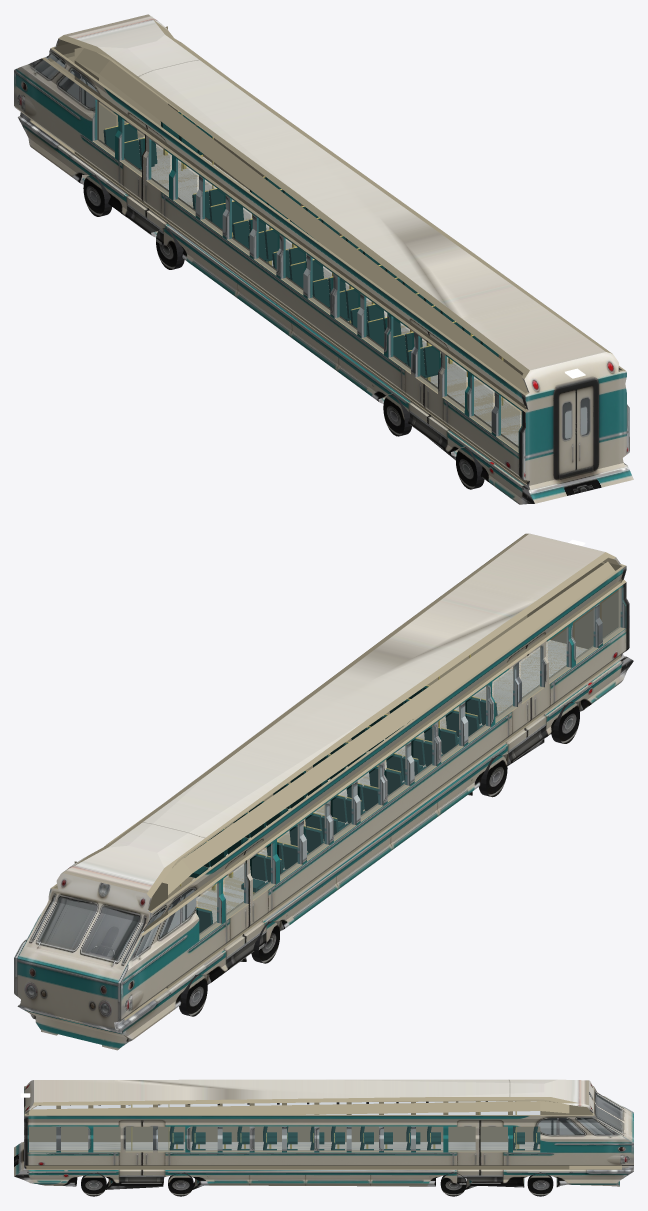
File: passenger_train.glb
3 renders of one model, top to bottom at view 1: azimuth 30°, elevation 25°; view 2: azimuth 150°, elevation 25°; view 3: azimuth 270°, elevation 25°, orthographic. The views are drawn at different scales.
Visible parts, largest first — view 1: passenger_train, passenger_train_interior, wheel_M1L, wheel_M2L, wheel_FL, wheel_BL; view 2: passenger_train, passenger_train_interior, wheel_FL, wheel_BL, wheel_M2L, wheel_M1L; view 3: passenger_train, passenger_train_interior, wheel_FR, wheel_M1R, wheel_BR, wheel_M2R.
Boxes of the visible parts, left/top/right/bottom form: passenger_train: left=14, top=14, right=633, bottom=504; passenger_train_interior: left=74, top=26, right=585, bottom=484; wheel_M1L: left=156, top=228, right=184, bottom=269; wheel_M2L: left=383, top=394, right=411, bottom=436; wheel_FL: left=83, top=175, right=111, bottom=216; wheel_BL: left=456, top=447, right=484, bottom=489; passenger_train: left=14, top=533, right=633, bottom=1050; passenger_train_interior: left=74, top=539, right=623, bottom=988; wheel_FL: left=179, top=974, right=207, bottom=1016; wheel_BL: left=551, top=702, right=579, bottom=743; wheel_M2L: left=479, top=755, right=507, bottom=797; wheel_M1L: left=251, top=921, right=279, bottom=963; passenger_train: left=14, top=1079, right=633, bottom=1189; passenger_train_interior: left=20, top=1093, right=569, bottom=1169; wheel_FR: left=527, top=1172, right=553, bottom=1196; wheel_M1R: left=440, top=1172, right=466, bottom=1196; wheel_BR: left=81, top=1172, right=106, bottom=1196; wheel_M2R: left=168, top=1172, right=193, bottom=1196.
Size of the model in its own units: 2.99 by 4.16 by 24.98.
10 materials, 2 textured.
